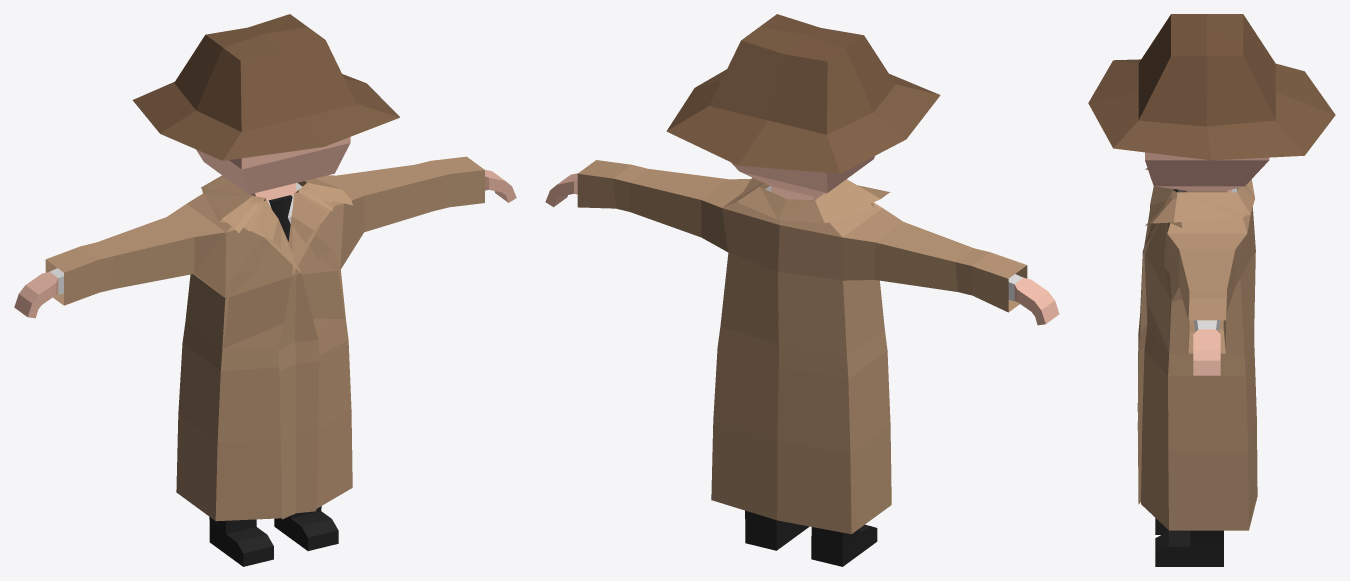
Rendered from bucky.fbx.
The picture shows the model from 3 angles, left to right: view 1: azimuth 30°, elevation 25°; view 2: azimuth 150°, elevation 25°; view 3: azimuth 270°, elevation 25°; orthographic projection. The views are drawn at different scales.
Visible parts, largest first — view 1: Bucky; view 2: Bucky; view 3: Bucky.
Part boxes in pixels (x1,y1,x2,y2): Bucky: (14,14,516,566); Bucky: (545,14,1059,566); Bucky: (1088,14,1335,566).
Size of the model in its own units: 2285 by 2247 by 984.
